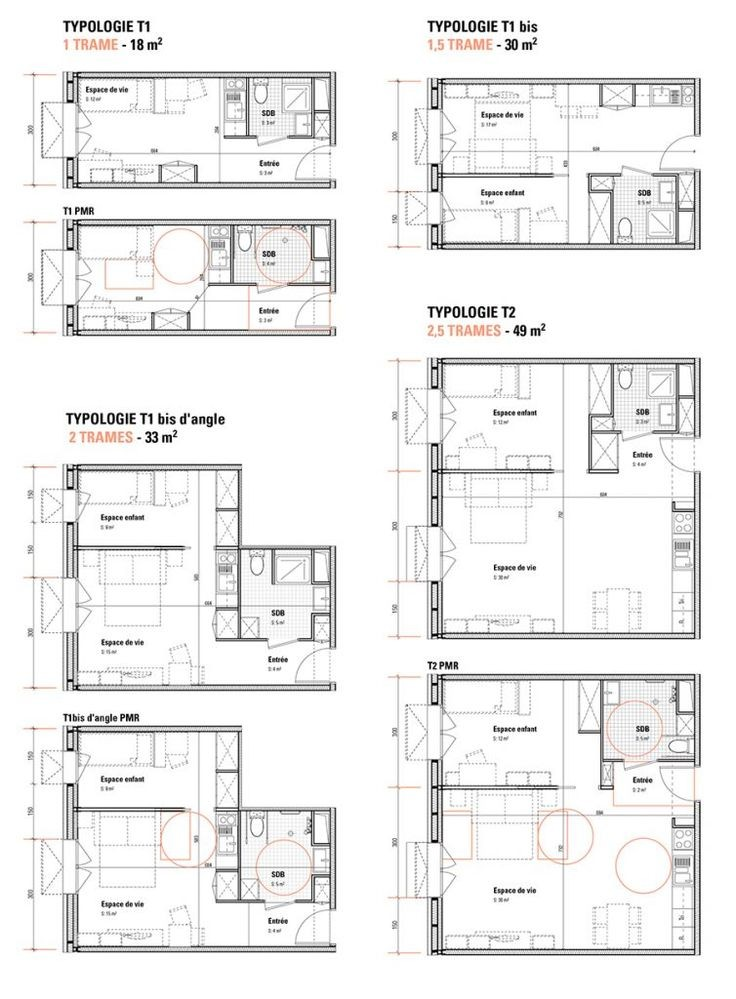door: (287, 136, 342, 189), (427, 524, 474, 585), (288, 905, 340, 956), (657, 122, 708, 174), (656, 758, 708, 808), (61, 837, 104, 897), (436, 387, 477, 447), (290, 284, 342, 331), (654, 432, 707, 477), (426, 701, 461, 767), (427, 107, 463, 169), (431, 835, 463, 897), (294, 644, 341, 686), (64, 247, 95, 309), (67, 576, 99, 636), (63, 102, 91, 159), (69, 484, 99, 531), (617, 429, 660, 455), (438, 192, 461, 234)
room: (431, 466, 703, 645), (432, 786, 700, 953), (64, 217, 343, 339), (65, 69, 341, 190), (433, 76, 707, 177), (62, 549, 245, 685), (72, 810, 238, 947), (433, 359, 621, 477), (432, 673, 606, 787), (65, 730, 246, 815), (69, 467, 240, 552), (599, 673, 704, 792), (436, 179, 619, 247), (233, 808, 333, 905), (611, 360, 694, 476), (240, 549, 334, 647), (592, 173, 706, 251), (231, 636, 347, 685)
wall: (434, 656, 710, 692), (440, 935, 704, 968), (67, 935, 344, 964), (436, 348, 706, 373), (428, 623, 698, 648), (65, 679, 346, 703), (75, 212, 340, 237), (431, 236, 699, 260), (72, 322, 345, 344), (76, 173, 339, 195), (439, 70, 705, 91), (73, 63, 337, 84), (72, 457, 247, 481), (687, 467, 710, 649), (687, 801, 712, 962), (430, 776, 558, 806), (207, 795, 339, 820), (232, 458, 248, 652), (322, 534, 348, 651), (67, 795, 188, 819), (423, 460, 561, 481), (232, 719, 247, 912), (61, 723, 251, 737), (325, 805, 349, 911), (683, 351, 710, 442), (591, 676, 615, 772), (214, 541, 342, 558), (64, 540, 192, 557), (438, 164, 550, 183), (53, 894, 84, 959), (689, 673, 707, 775), (324, 211, 339, 295), (60, 522, 79, 579)
window: (416, 446, 453, 528), (410, 580, 451, 642), (421, 758, 449, 844), (420, 896, 445, 960), (55, 525, 82, 583), (58, 777, 80, 843), (427, 673, 447, 703)
